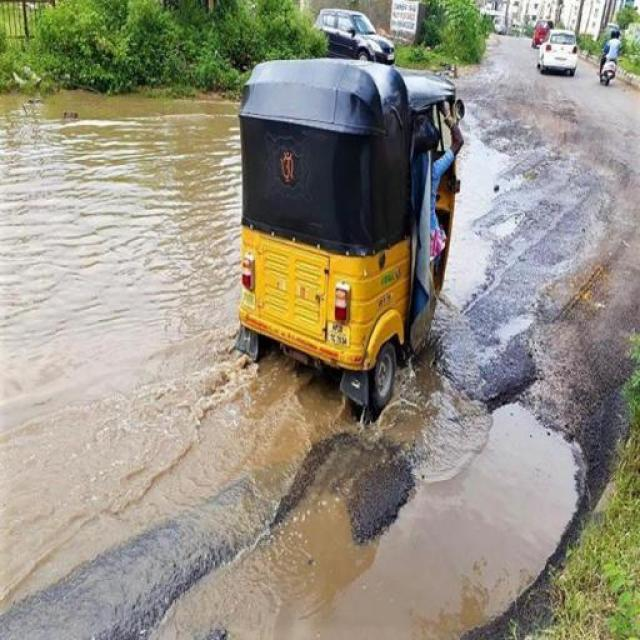puddle: (2, 92, 197, 522), (376, 410, 552, 636)
